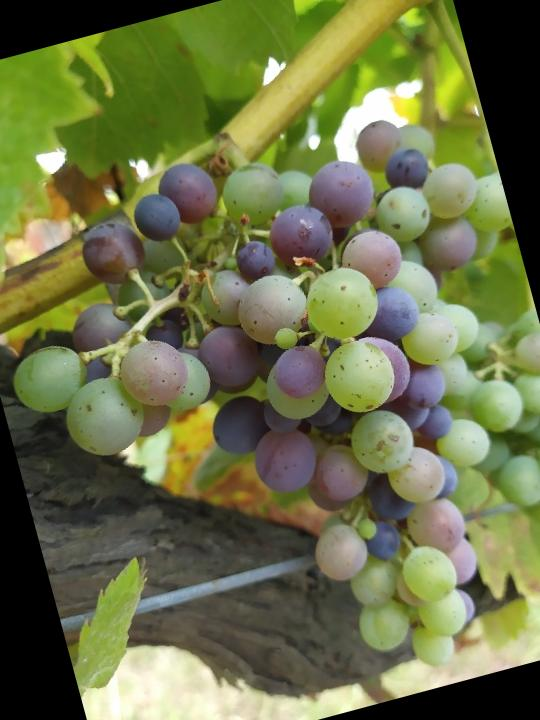grape: (0, 86, 540, 720)
